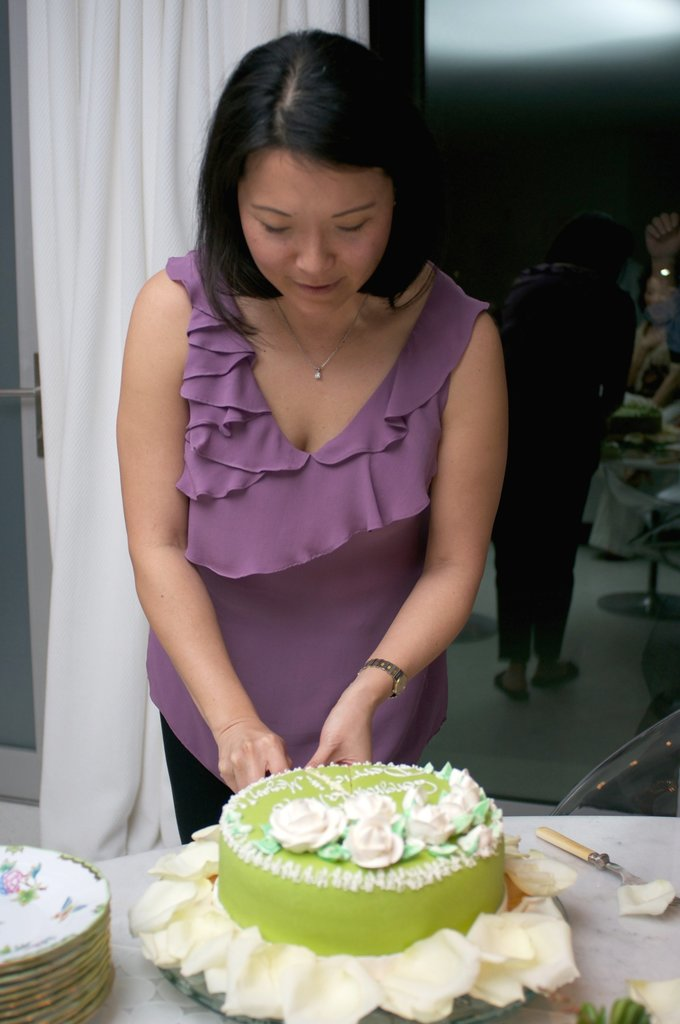cake: (220, 760, 507, 954)
